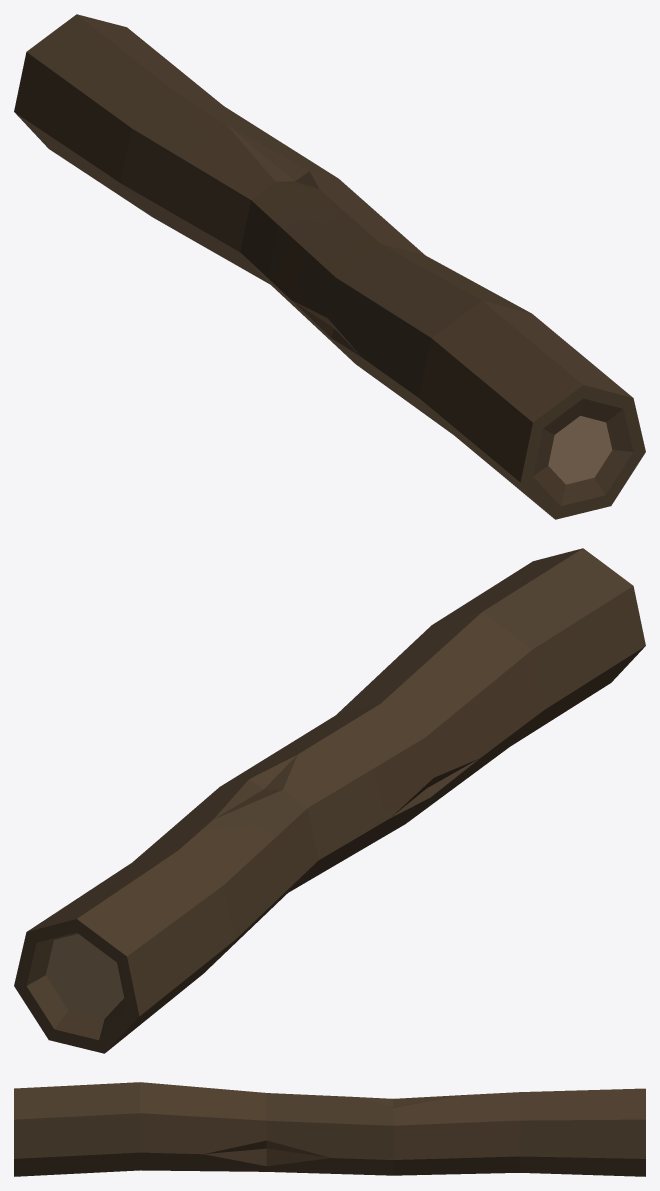
File: Branch10.glb
3 views of the same model, one above another, from view 1: azimuth 30°, elevation 25°; view 2: azimuth 150°, elevation 25°; view 3: azimuth 270°, elevation 25° (orthographic). The views are drawn at different scales.
Parts seen in each view (by area): view 1: Branch_8; view 2: Branch_8; view 3: Branch_8.
Boxes of the visible parts, x1=… form: Branch_8: x1=14, y1=14, x2=645, y2=519; Branch_8: x1=14, y1=548, x2=645, y2=1053; Branch_8: x1=14, y1=1082, x2=645, y2=1176.
Bounding box in the file's own units: 0.6207 × 0.6157 × 4.09.
1 material, 1 textured.
